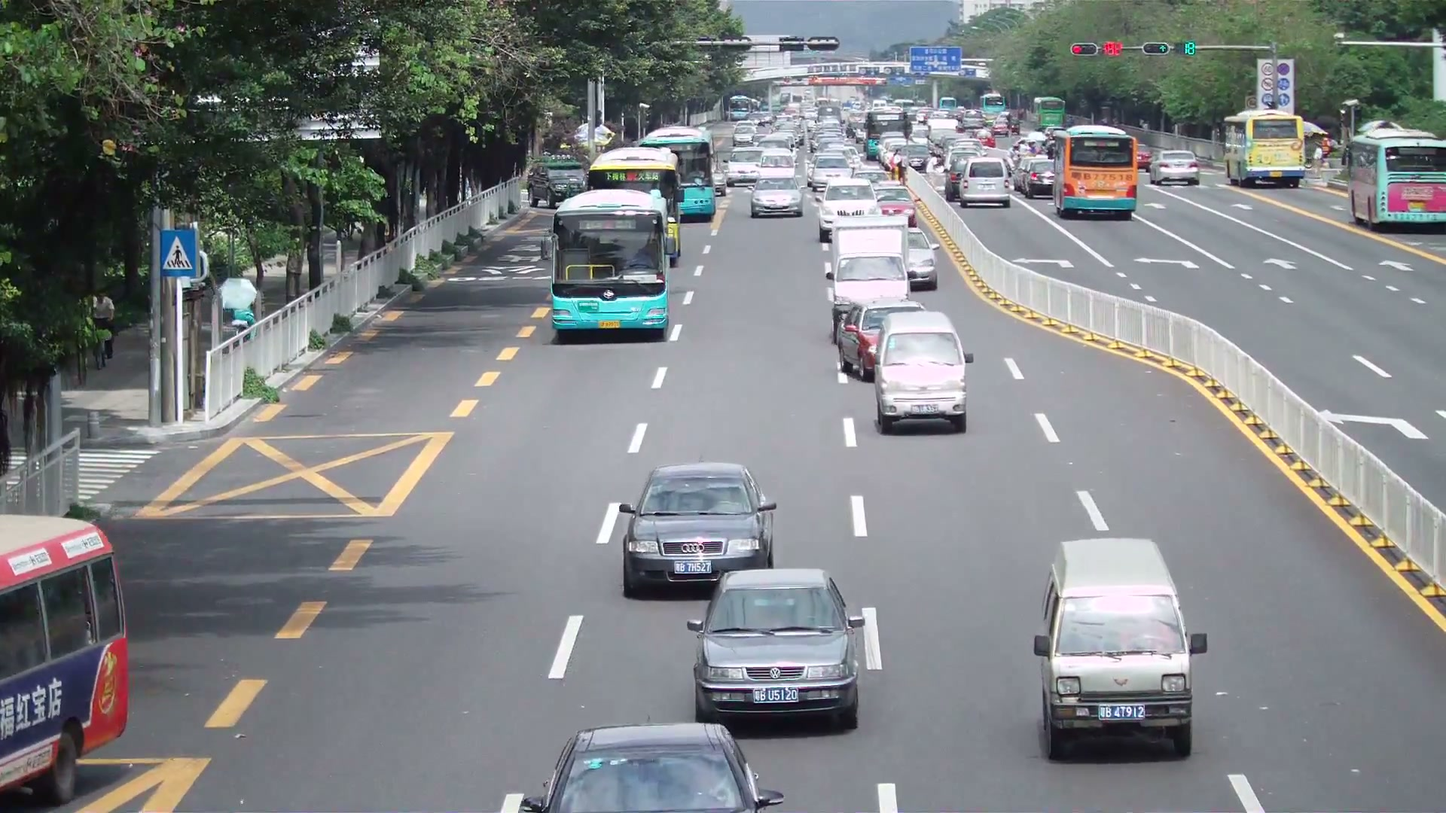bus: (1, 512, 130, 804), (548, 187, 671, 343), (586, 144, 683, 264), (1346, 120, 1446, 228), (1049, 124, 1139, 218), (641, 123, 716, 220), (1222, 109, 1308, 188)
car: (1032, 536, 1207, 762), (685, 566, 873, 733), (505, 722, 786, 811), (613, 461, 778, 599), (871, 310, 970, 435), (827, 252, 915, 350), (837, 301, 933, 381), (816, 179, 882, 241), (954, 155, 1012, 209), (900, 226, 940, 291), (749, 179, 805, 218), (1153, 149, 1201, 186), (873, 183, 914, 222)
truck: (1222, 111, 1306, 188)
